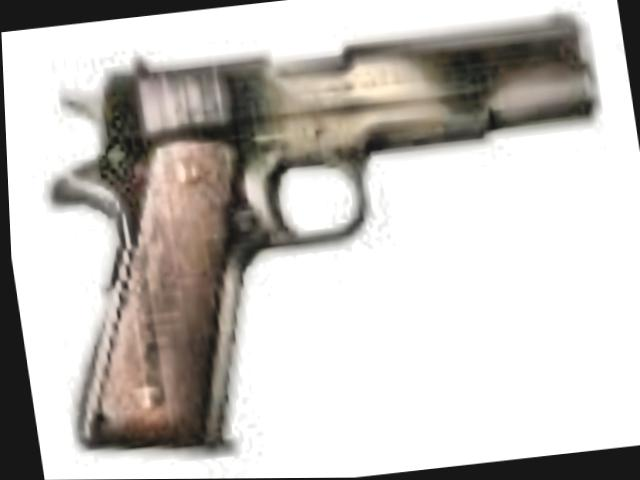pistol: (7, 0, 638, 461)
